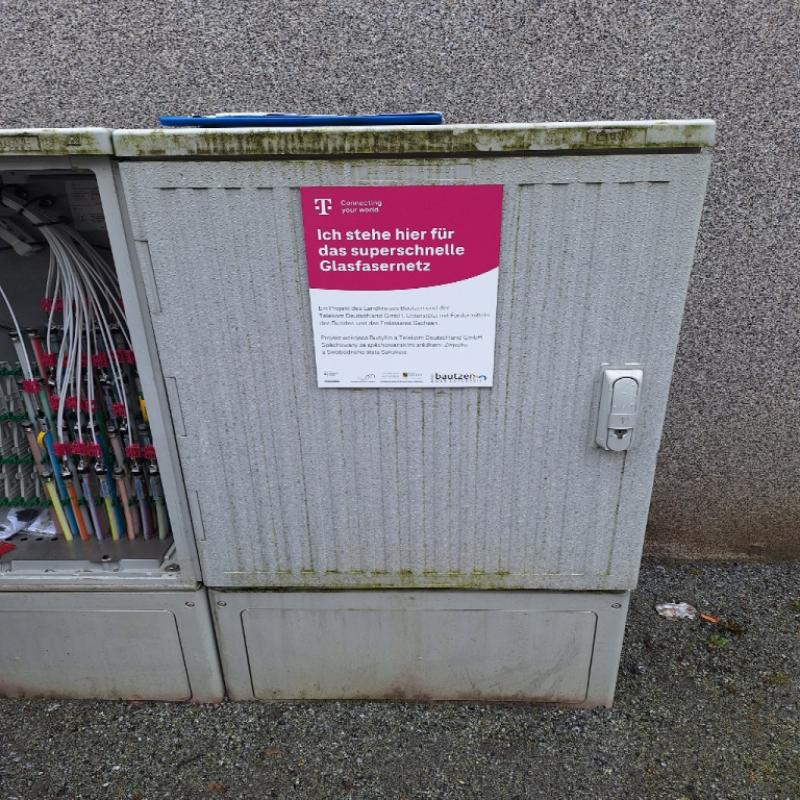NT-Gehause: (116, 124, 727, 712), (0, 129, 224, 700)
Steaker: (300, 181, 498, 387)
